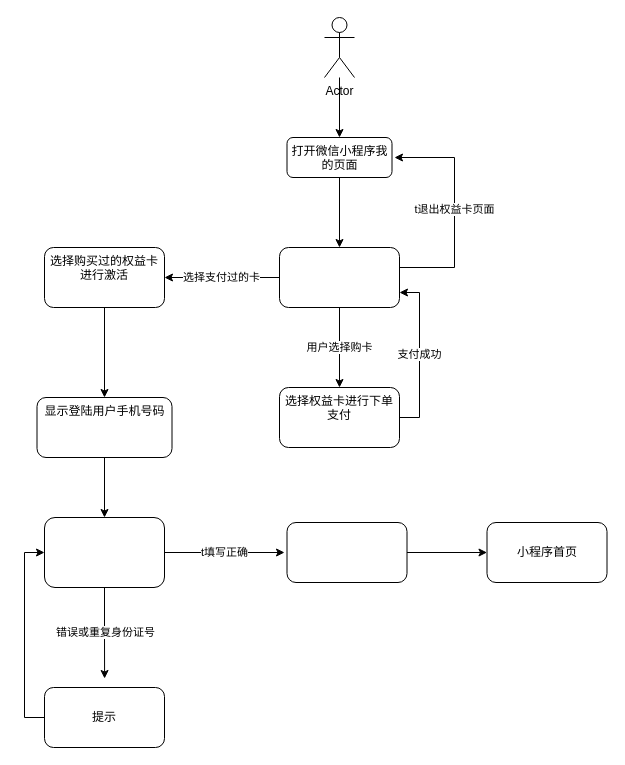
Image size: 625x765. Some labels were removed from this diagram. Each missing label, with the centre of its shape:
填写使用权益卡优惠券的姓名和身份证号码: (x=104, y=552)
权益卡列表: (x=339, y=277)
激活成功: (x=346, y=552)
